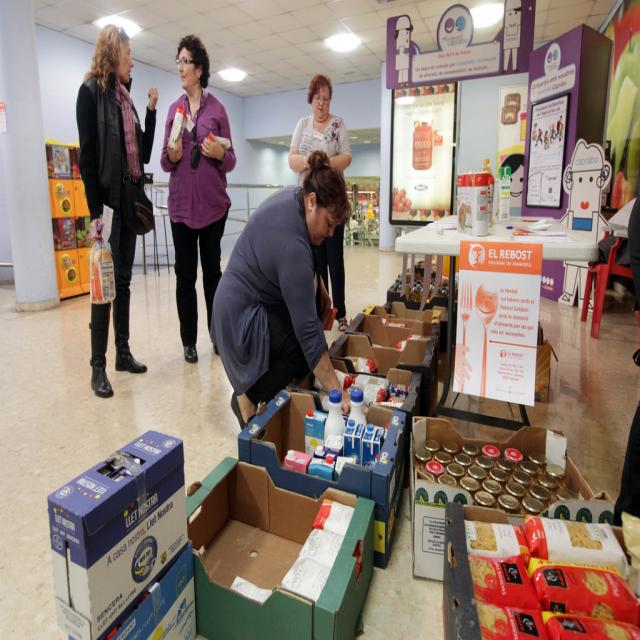Box: (180, 446, 374, 640), (413, 402, 612, 579), (237, 386, 402, 566), (442, 504, 640, 639), (327, 325, 429, 472), (64, 538, 195, 640), (344, 290, 444, 382), (536, 329, 558, 403)
